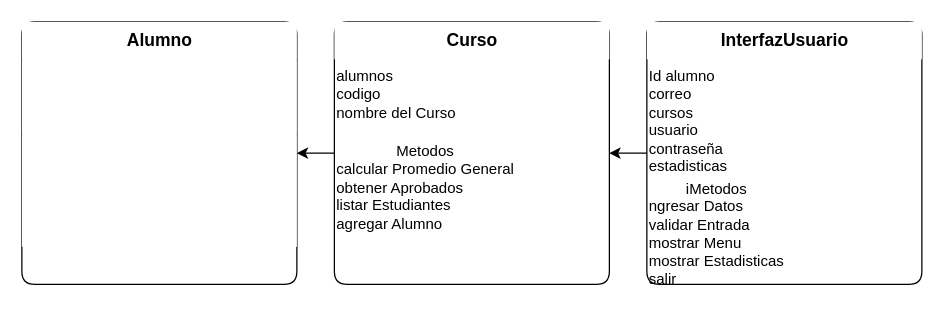
Some shapes in this 944 by 310 pixel diagram are drawn without their labels. The centre of each missing label's shape, as x and y in pixels:
Metodos obtener Aprobadas obtener Reprobadas calcular Promedio mostrar Datos: [158,190]
nombre notas: carnet correo: [158,96]
